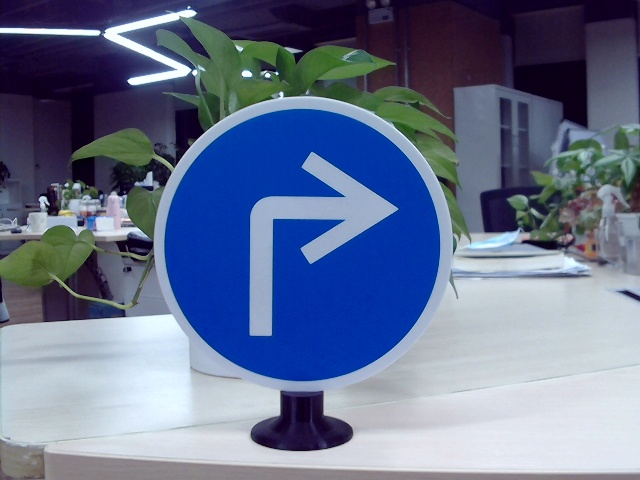turn_right: (230, 144, 394, 337)
